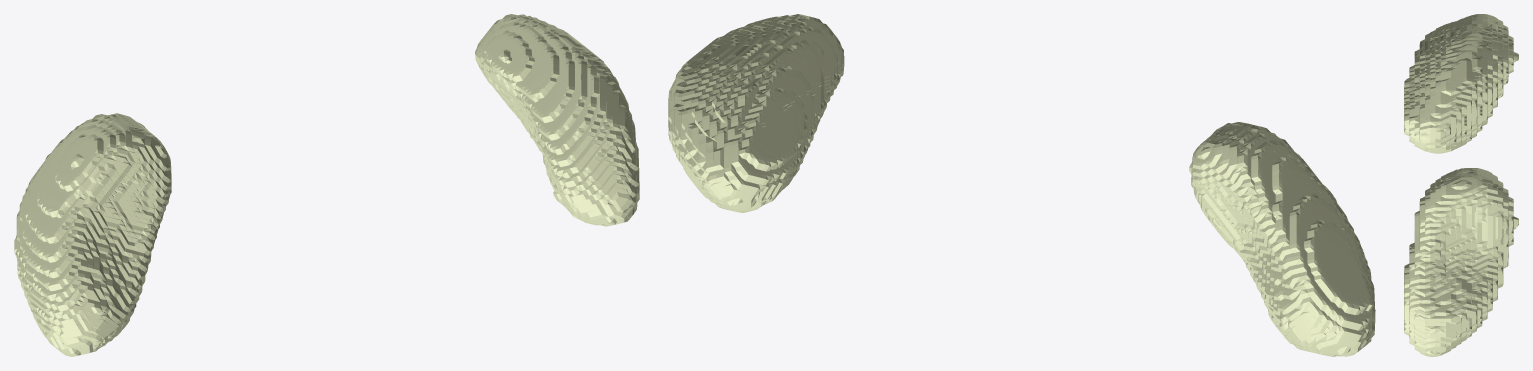
Rendered from VFB_00102109.glb.
3 renders of one model, left to right at view 1: azimuth 30°, elevation 25°; view 2: azimuth 150°, elevation 25°; view 3: azimuth 270°, elevation 25°, orthographic. The views are drawn at different scales.
Parts seen in each view (by area): view 1: VFB_00102109; view 2: VFB_00102109; view 3: VFB_00102109.
Part boxes in pixels (x1=…): VFB_00102109: x1=14, y1=14, x2=639, y2=356; VFB_00102109: x1=668, y1=14, x2=1375, y2=356; VFB_00102109: x1=1404, y1=14, x2=1518, y2=356.
Size of the model in its own units: 0.4155 by 0.1311 by 0.0864.
